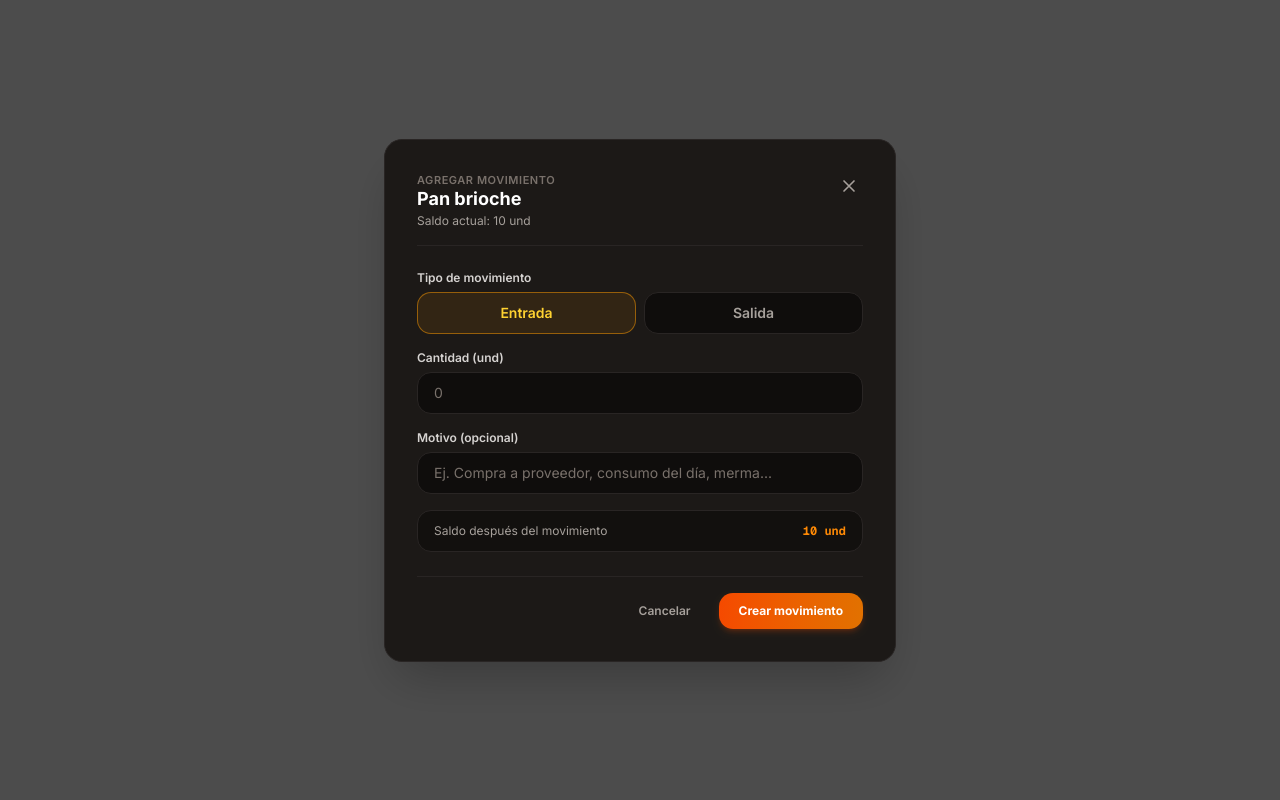
Scenario: Transacciones › CreateMovementDialog › no permite una salida mayor al saldo disponible
The image size is (1280, 800).
Click the button "Salida" at (754, 312), box [644,292,863,334]
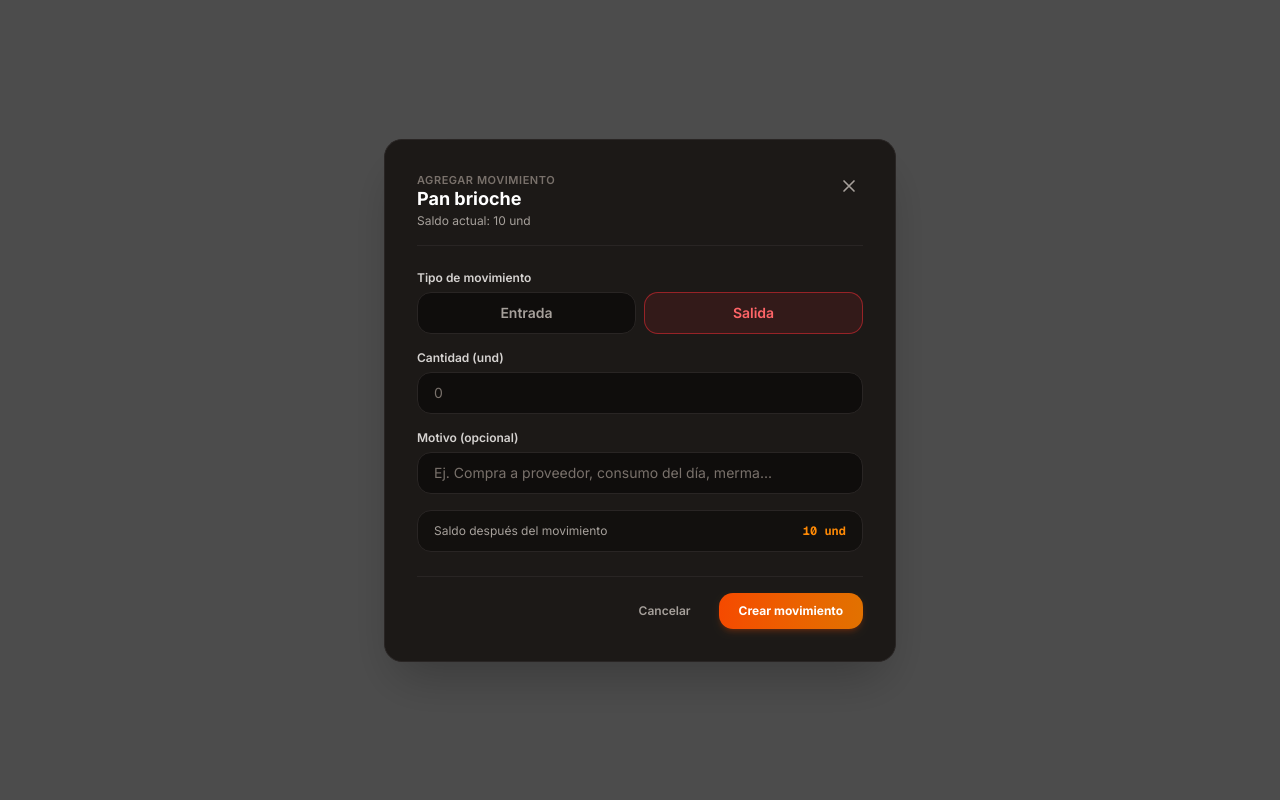
Type "15" into the number field labelled "Cantidad (und)" at (640, 392), box [417,372,863,414]
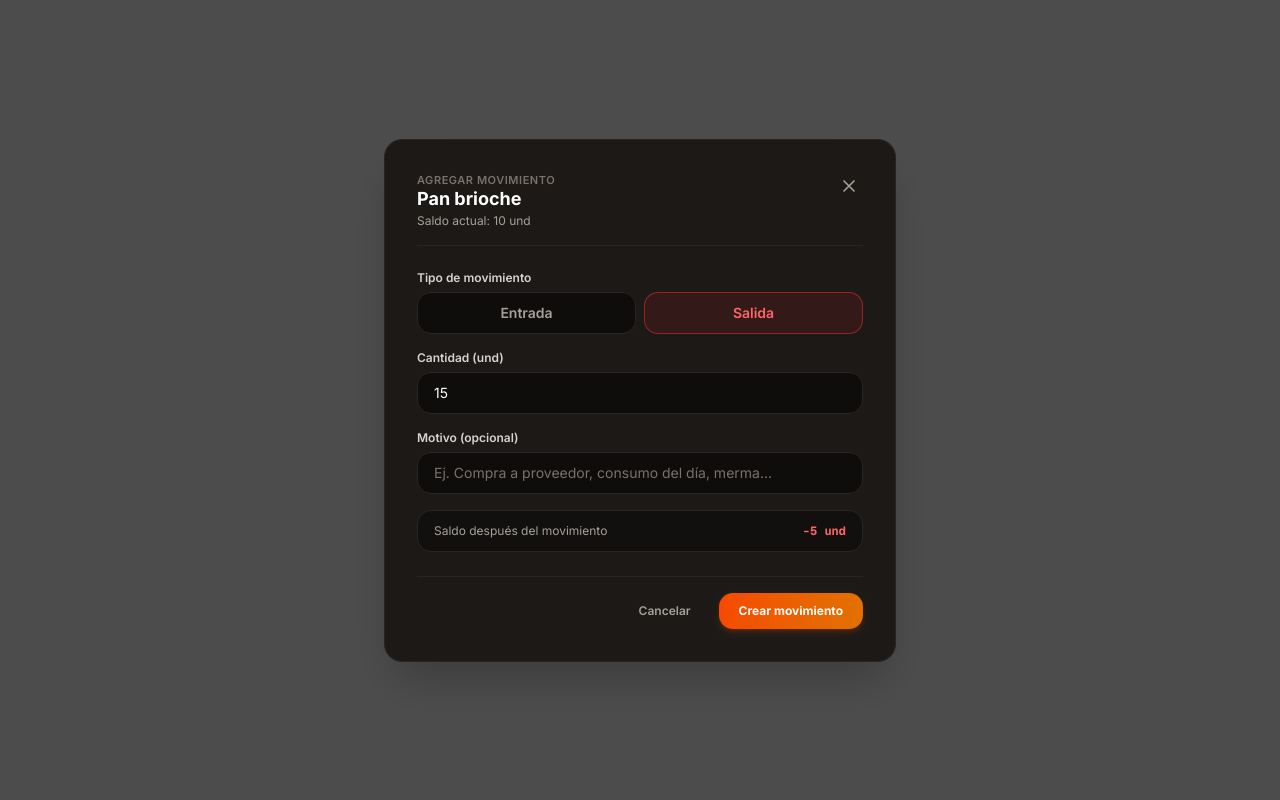
Click the button "Crear movimiento" at (791, 610), box [719,592,863,628]
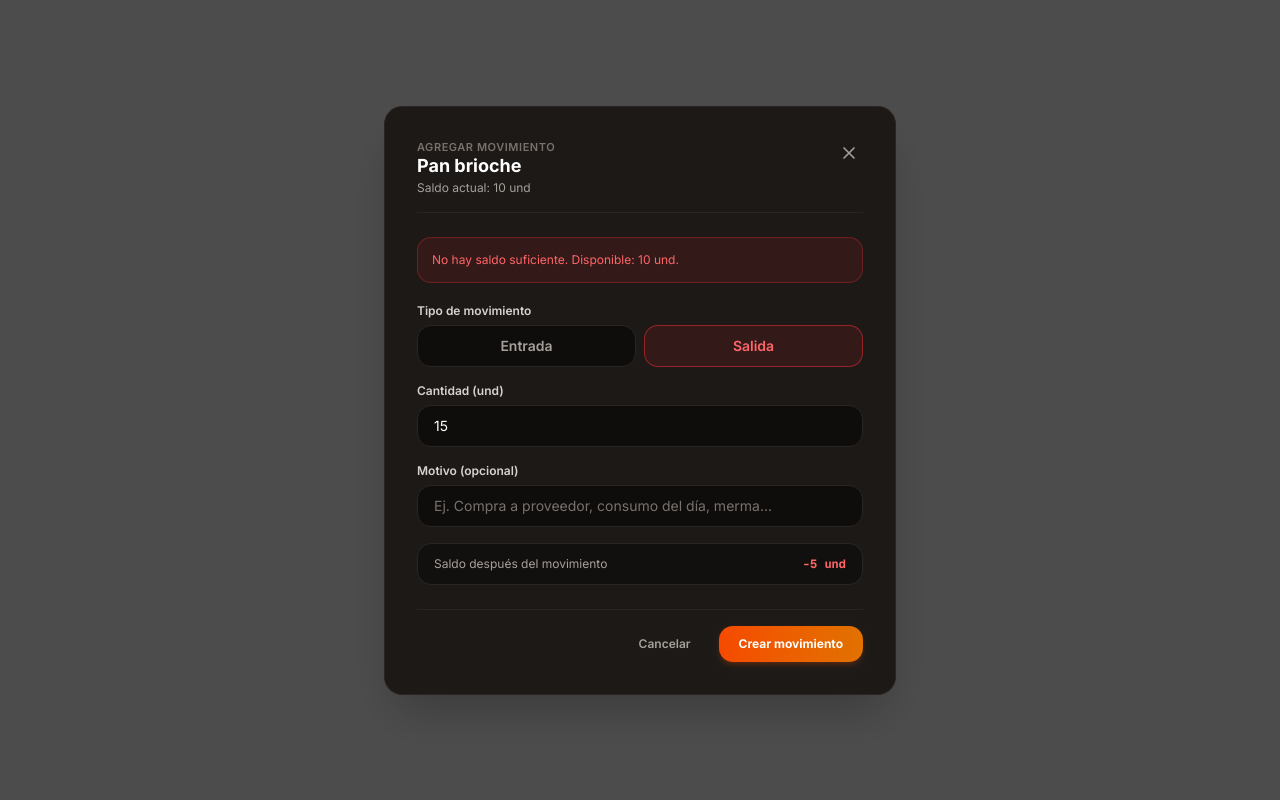
Expected: the message shows "No hay saldo suficiente", [432,252,679,266]
